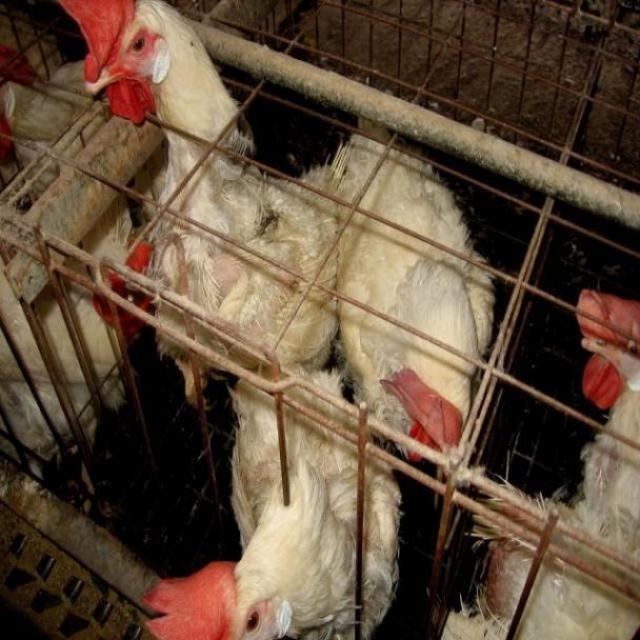Chicken: (61, 0, 354, 386), (140, 359, 405, 640), (440, 287, 640, 639), (335, 90, 495, 463)
